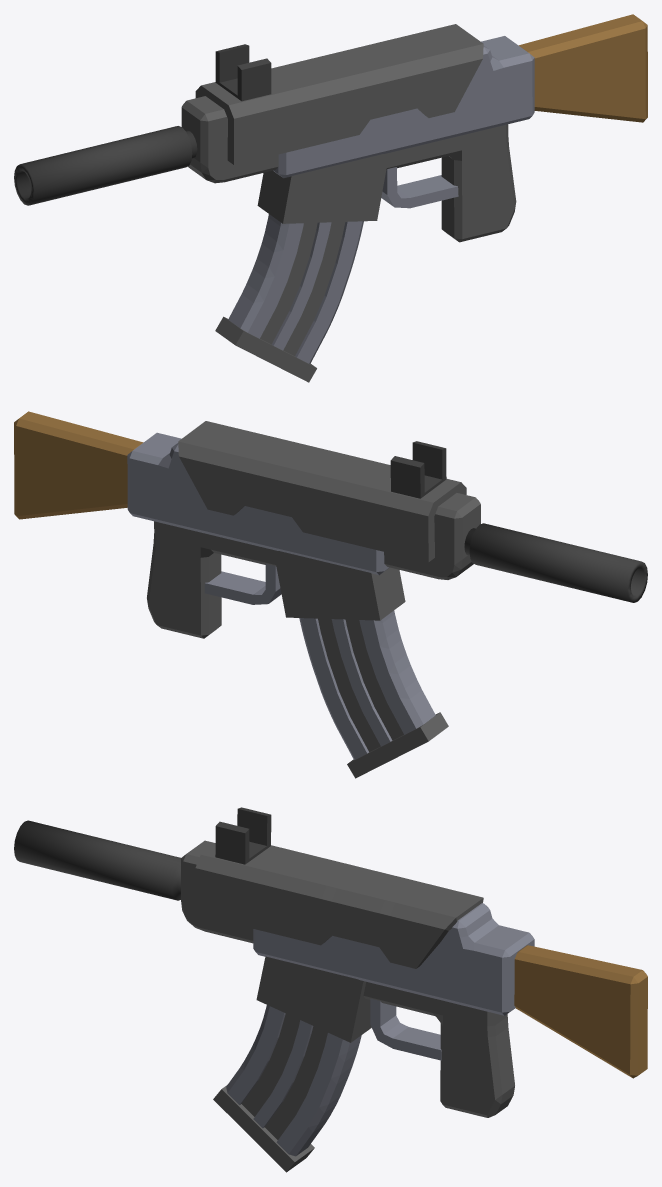
3 views of the same model, one above another, from view 1: azimuth 30°, elevation 25°; view 2: azimuth 150°, elevation 25°; view 3: azimuth 330°, elevation 25° (orthographic).
Visible parts, largest first — view 1: AK; view 2: AK; view 3: AK.
Part boxes in pixels (<box>): AK: <box>14,14,647,382</box>; AK: <box>14,411,647,778</box>; AK: <box>14,807,647,1172</box>.
Bounding box in the file's own units: 1.42 × 0.7303 × 0.1537.
